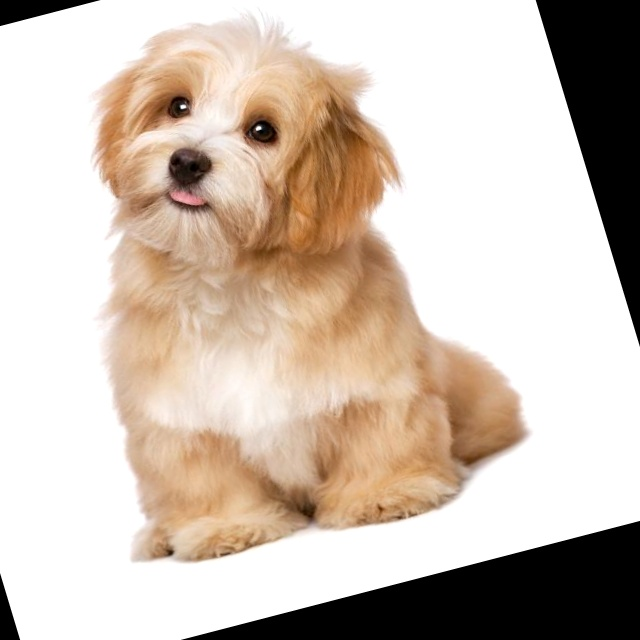dog: (32, 0, 438, 319)
